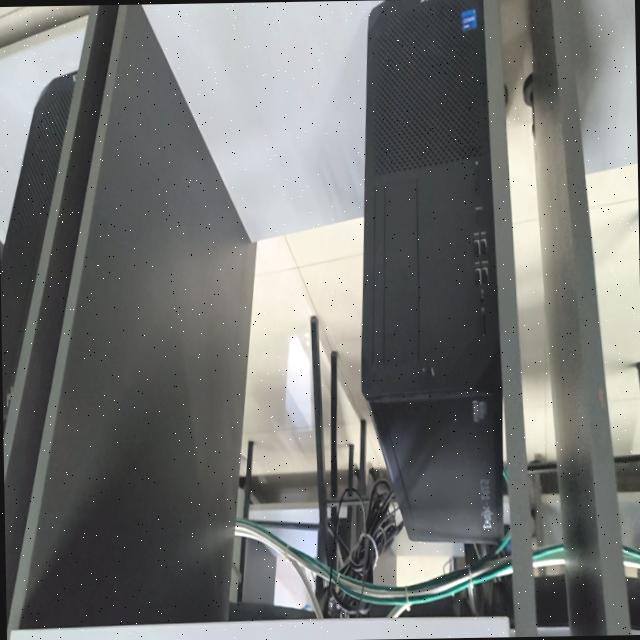Cpu: (360, 0, 502, 541), (0, 70, 75, 437)
